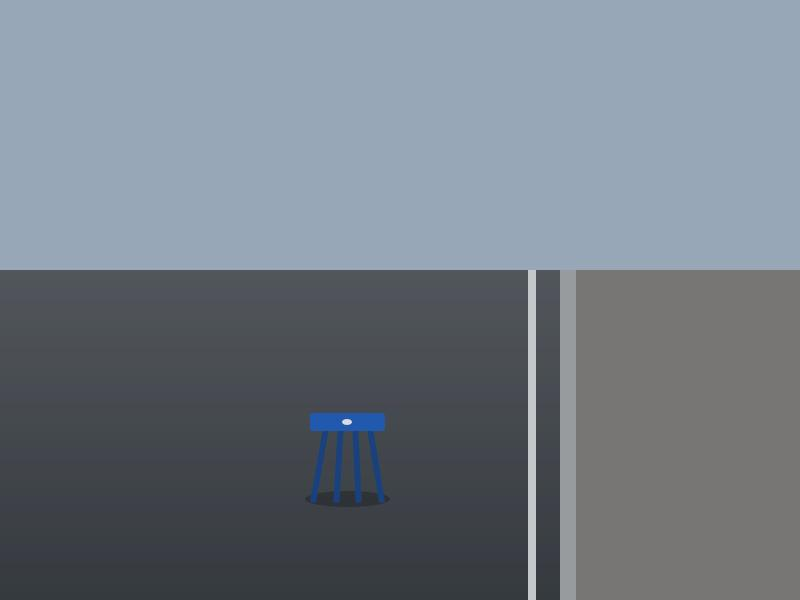ROAD_OBSTACLE: (310, 413, 385, 499)
